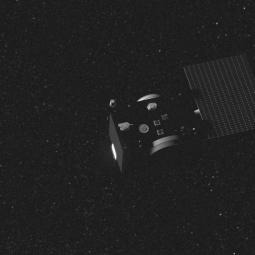proba_3_csc: (96, 57, 255, 186)
